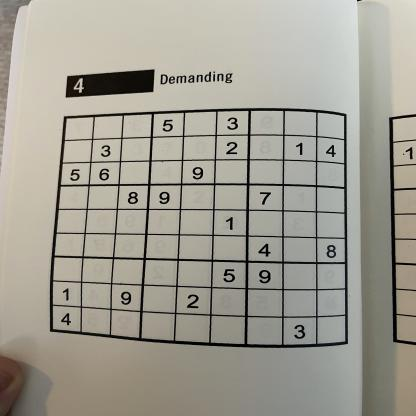sudoku: (46, 106, 352, 350)
